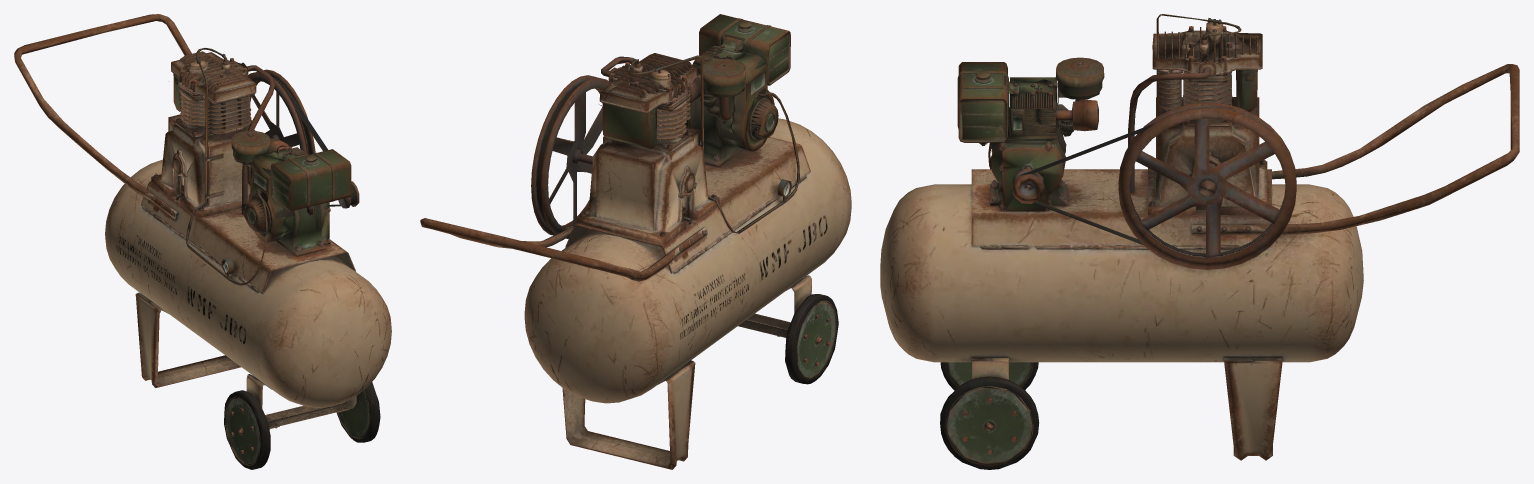
File: old_military_compressor_1k.glb
The picture shows the model from 3 angles, left to right: view 1: azimuth 30°, elevation 25°; view 2: azimuth 150°, elevation 25°; view 3: azimuth 270°, elevation 25°; orthographic projection. The views are drawn at different scales.
Visible parts, largest first — view 1: old_military_compressor; view 2: old_military_compressor; view 3: old_military_compressor.
Part boxes in pixels (bbox=[...]): old_military_compressor: bbox=[14, 14, 391, 469]; old_military_compressor: bbox=[420, 14, 851, 469]; old_military_compressor: bbox=[880, 14, 1519, 469].
Bounding box in the file's own units: 0.5957 × 1.18 × 1.67.
Materials: 2 (2 with a texture image).
